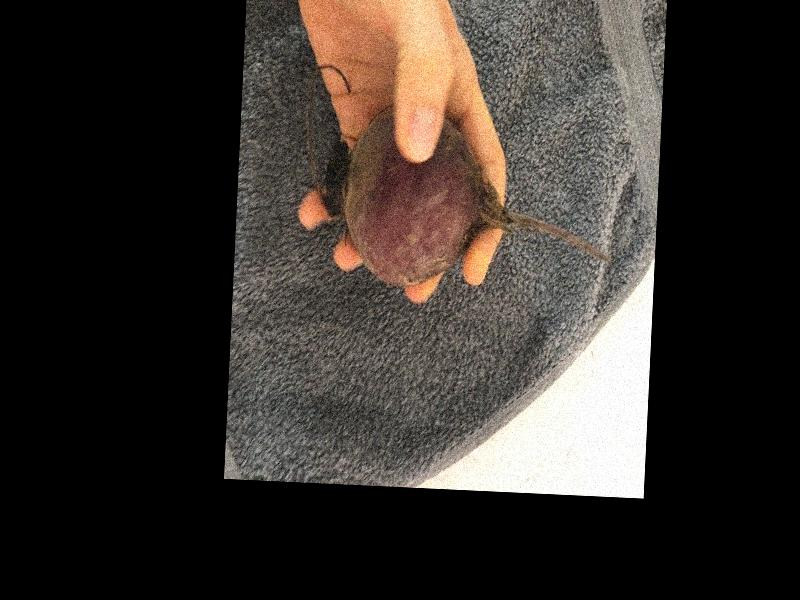Beet: (321, 101, 619, 296)
